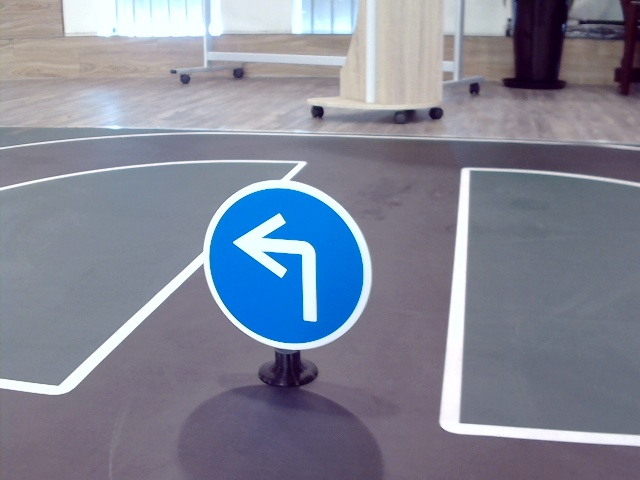turn_left: (235, 210, 329, 322)
